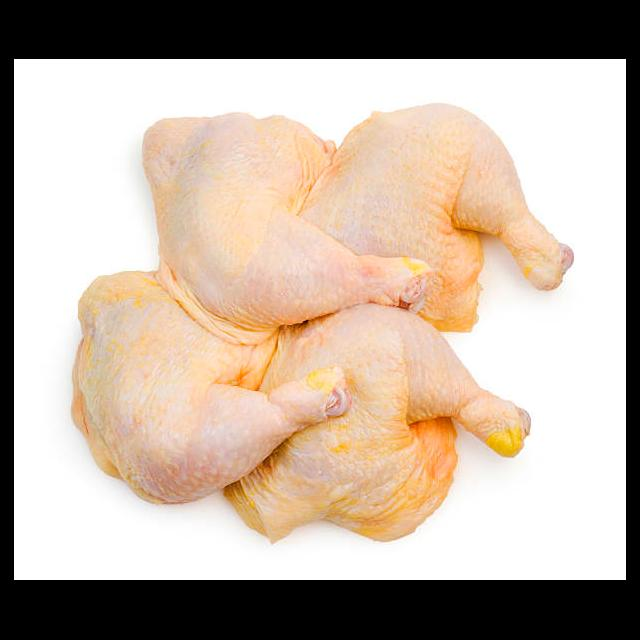chicken: (222, 302, 533, 546), (69, 270, 352, 507), (298, 101, 576, 336), (141, 114, 434, 334)
